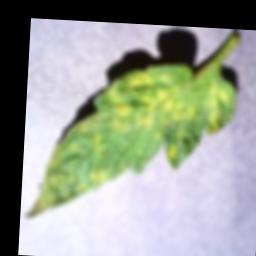Leaf_Mold: (24, 54, 238, 230)
